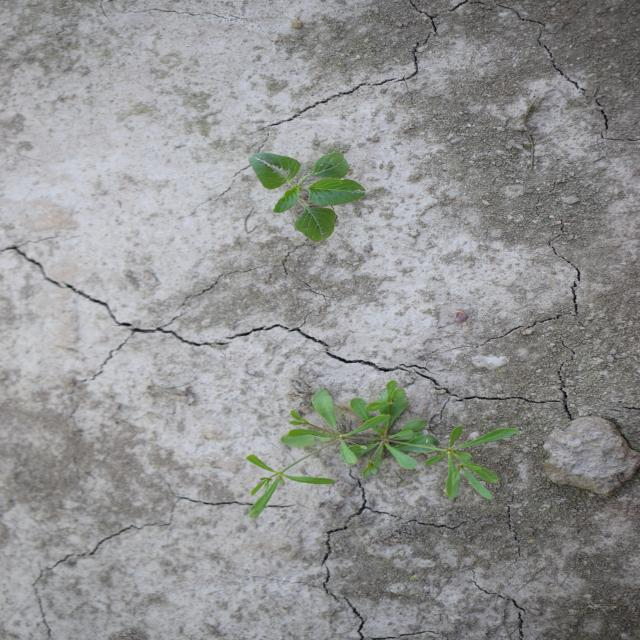Carpetweed: (243, 379, 521, 521)
PalmerAmaranth: (245, 151, 368, 244)
